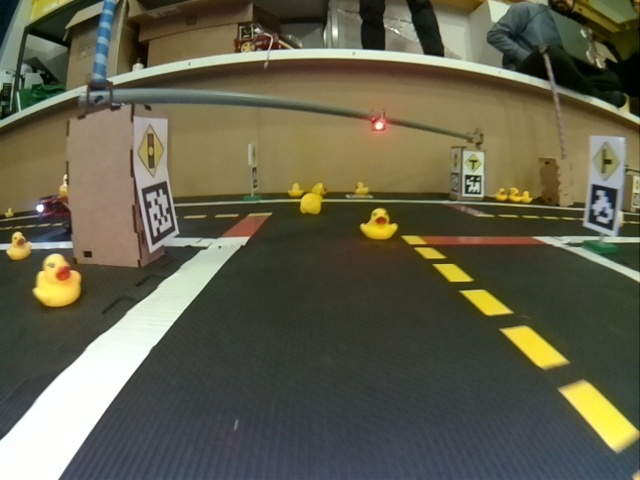Duckie: (33, 254, 78, 302), (361, 208, 398, 240), (8, 233, 32, 260), (300, 194, 322, 214), (288, 184, 303, 197), (355, 181, 368, 194), (312, 183, 327, 193), (496, 188, 507, 201), (509, 191, 522, 202)
Duckiebot: (37, 193, 69, 219)
Intersection sign: (591, 141, 621, 181), (463, 151, 484, 173)
QR code: (140, 182, 178, 245), (583, 187, 619, 232), (464, 175, 484, 197), (449, 172, 460, 195)
Signal sign: (136, 122, 167, 178), (451, 152, 461, 170)
Traffic light: (372, 109, 386, 130)
